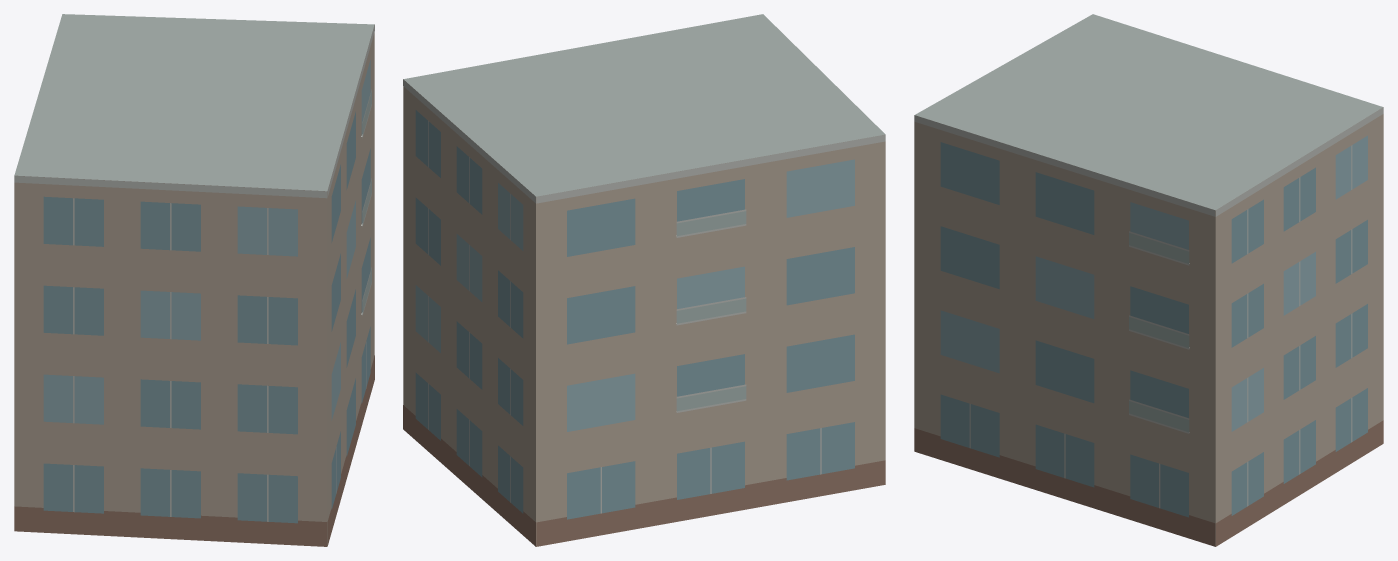
Rendered from survey-upis-32809373.glb.
3 renders of one model, left to right at view 1: azimuth 30°, elevation 25°; view 2: azimuth 150°, elevation 25°; view 3: azimuth 270°, elevation 25°, orthographic. The views are drawn at different scales.
Visible parts, largest first — view 1: survey-upis-32809373.tmp; view 2: survey-upis-32809373.tmp; view 3: survey-upis-32809373.tmp.
Part boxes in pixels (bbox=[...]): survey-upis-32809373.tmp: bbox=[14, 14, 374, 546]; survey-upis-32809373.tmp: bbox=[403, 14, 885, 546]; survey-upis-32809373.tmp: bbox=[914, 14, 1383, 546].
Bounding box in the file's own units: 15.52 × 12.4 × 15.67.
